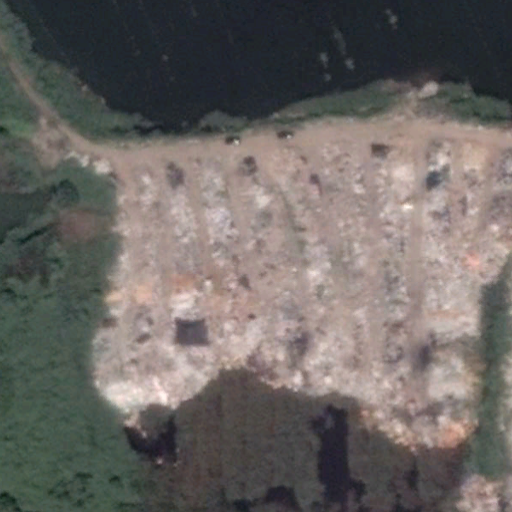msw: (81, 134, 512, 452)
